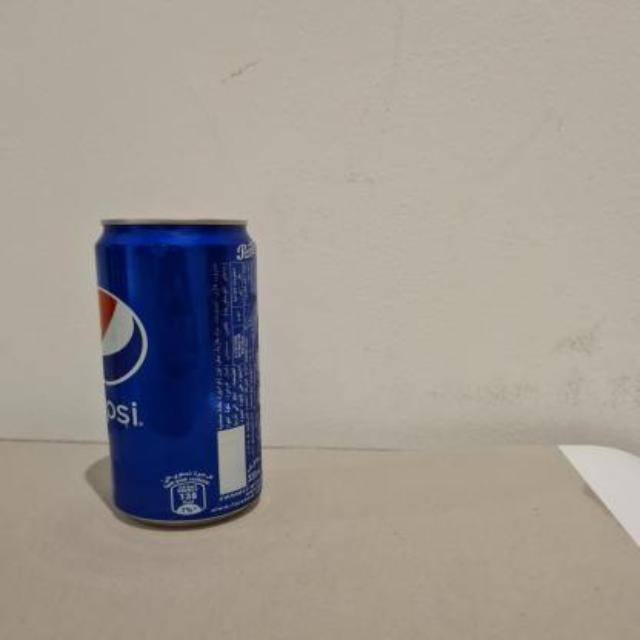metal: (94, 220, 258, 520)
